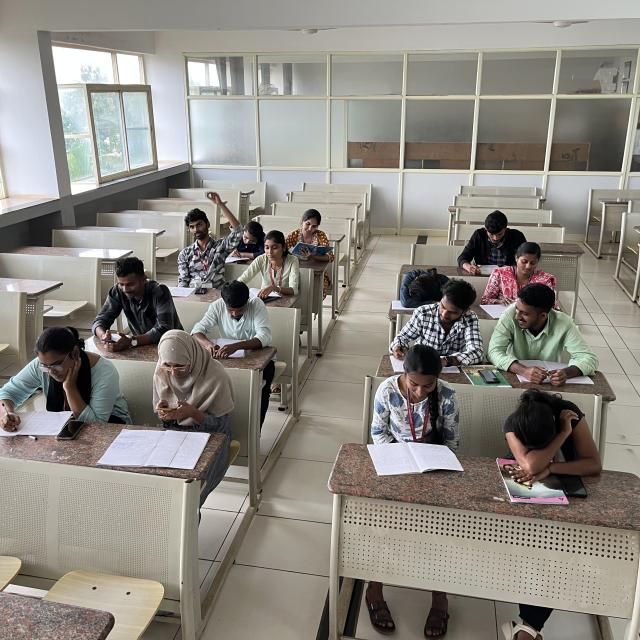Hand Rising: (160, 184, 238, 275)
Reading: (368, 350, 464, 477), (193, 290, 294, 370), (448, 204, 528, 276), (484, 247, 566, 310), (243, 236, 308, 312), (287, 211, 337, 261)
Sleeping: (498, 383, 604, 479), (379, 263, 475, 309)
Using Phone: (141, 332, 249, 437), (78, 254, 183, 355)
Writing: (5, 322, 130, 456), (386, 297, 481, 379), (226, 200, 268, 268)
